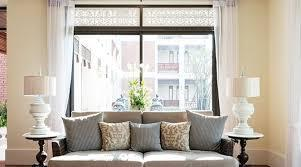light: (227, 76, 263, 136), (24, 74, 57, 136)
sofa: (52, 108, 240, 167)
table: (23, 135, 60, 167), (227, 136, 261, 167)
